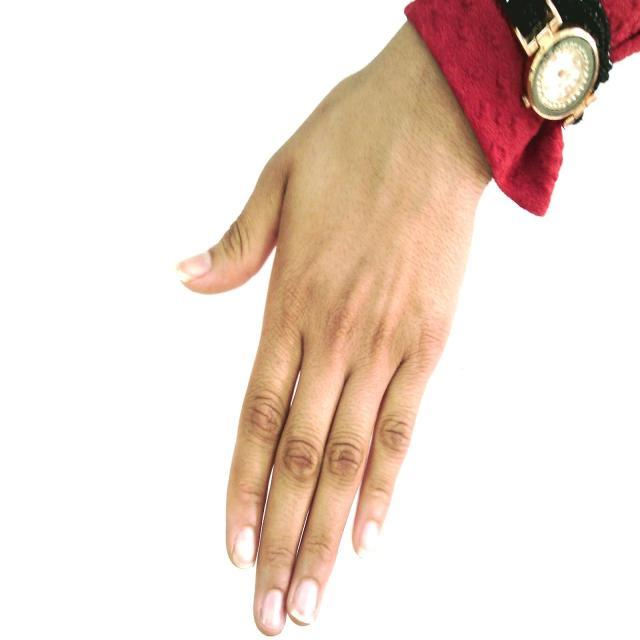Fingernail: (290, 579, 319, 625), (176, 252, 212, 283), (232, 528, 256, 569), (263, 590, 283, 628), (359, 521, 378, 560)
